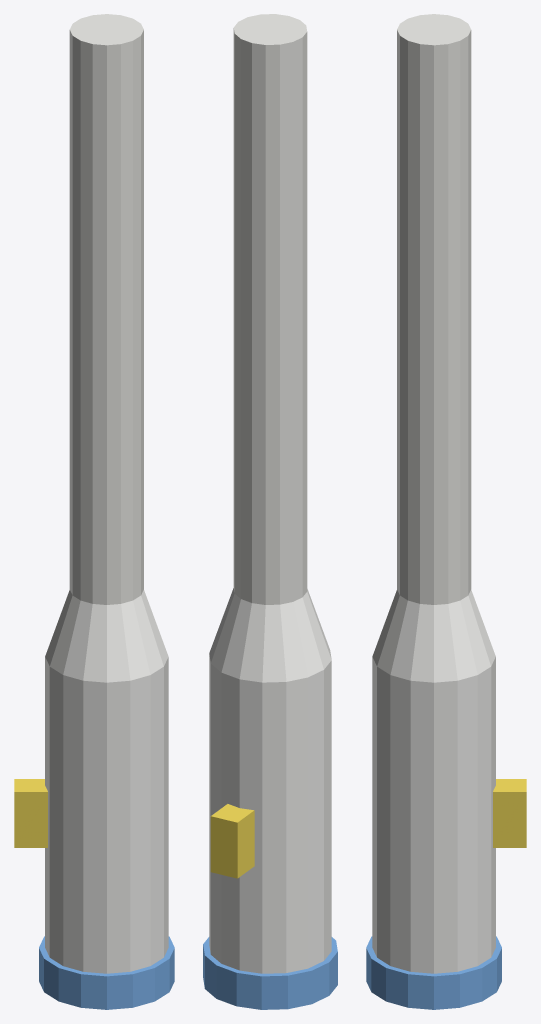
File: spudgun.glb
3 renders of one model, left to right at view 1: azimuth 90°, elevation 25°; view 2: azimuth 150°, elevation 25°; view 3: azimuth 270°, elevation 25°, orthographic.
Parts seen in each view (by area): view 1: spudgun; view 2: spudgun; view 3: spudgun.
Part boxes in pixels (left/top/right/bottom): spudgun: left=14, top=14, right=174, bottom=1009; spudgun: left=203, top=14, right=337, bottom=1009; spudgun: left=366, top=14, right=526, bottom=1009.
Bounding box in the file's own units: 0.11 × 0.85 × 0.13.
